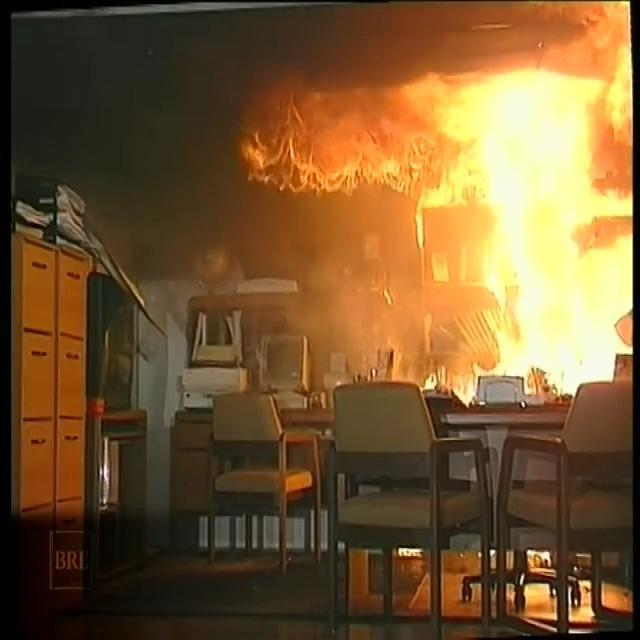Fire: (216, 1, 634, 418)
